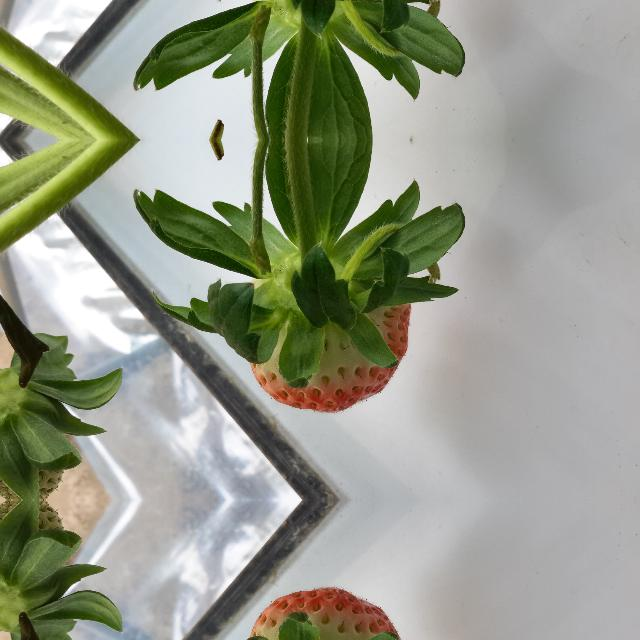Health_100: (249, 303, 411, 413), (249, 587, 411, 640)
